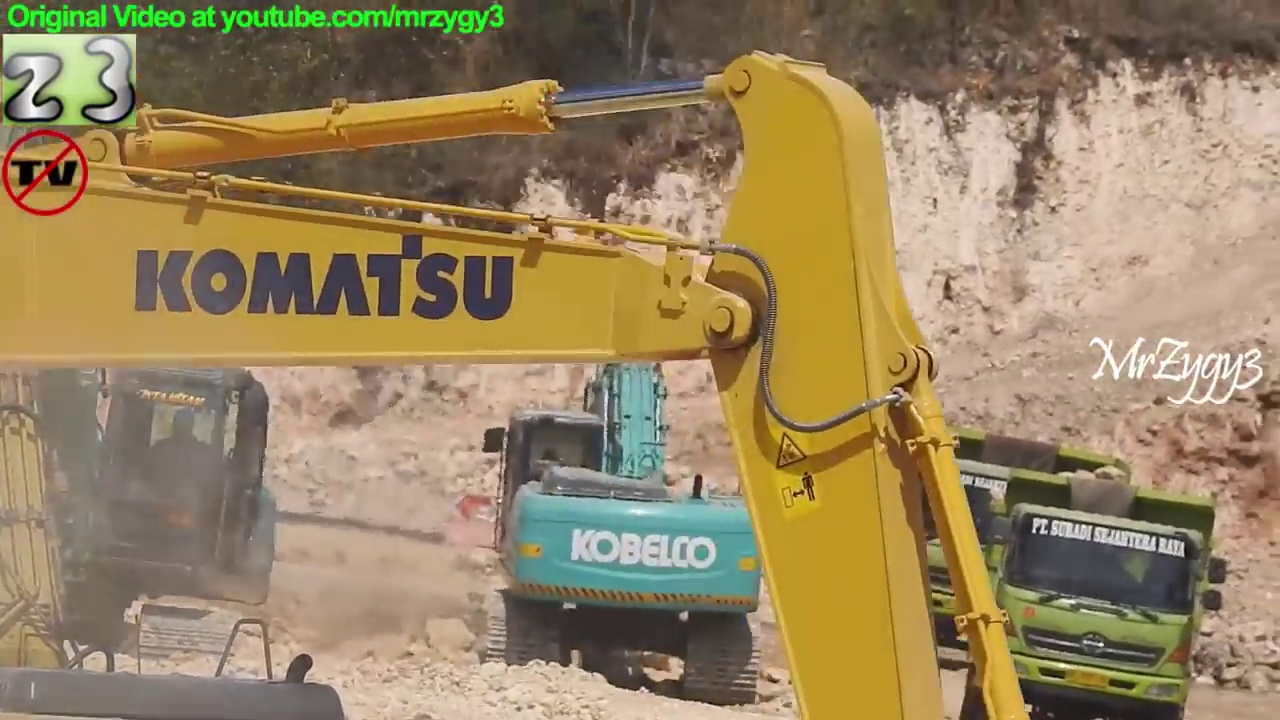excavator: (2, 47, 1041, 720), (477, 252, 774, 709)
truck: (960, 465, 1230, 720), (877, 423, 1136, 672)
